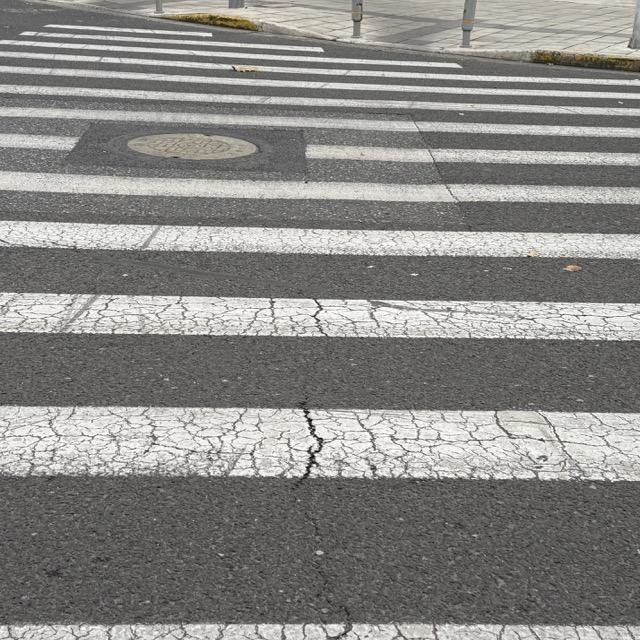curb: (148, 12, 639, 72)
